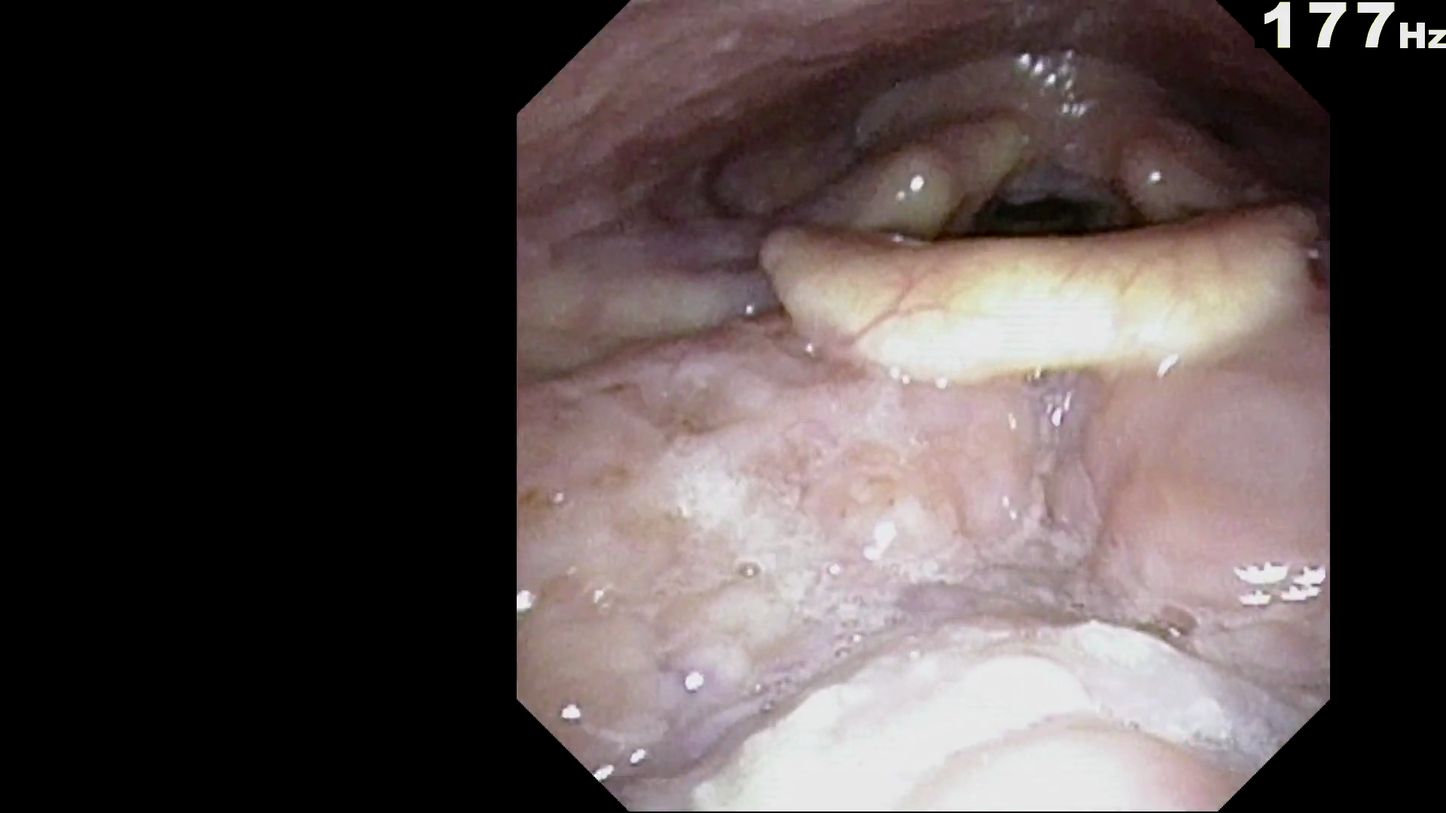epiglottis: (736, 160, 1308, 444)
trachea: (975, 136, 1122, 290)
